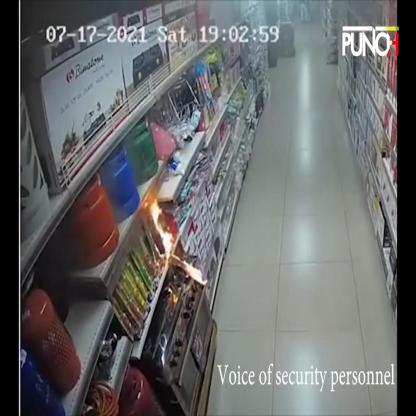fire: (144, 198, 172, 257)
